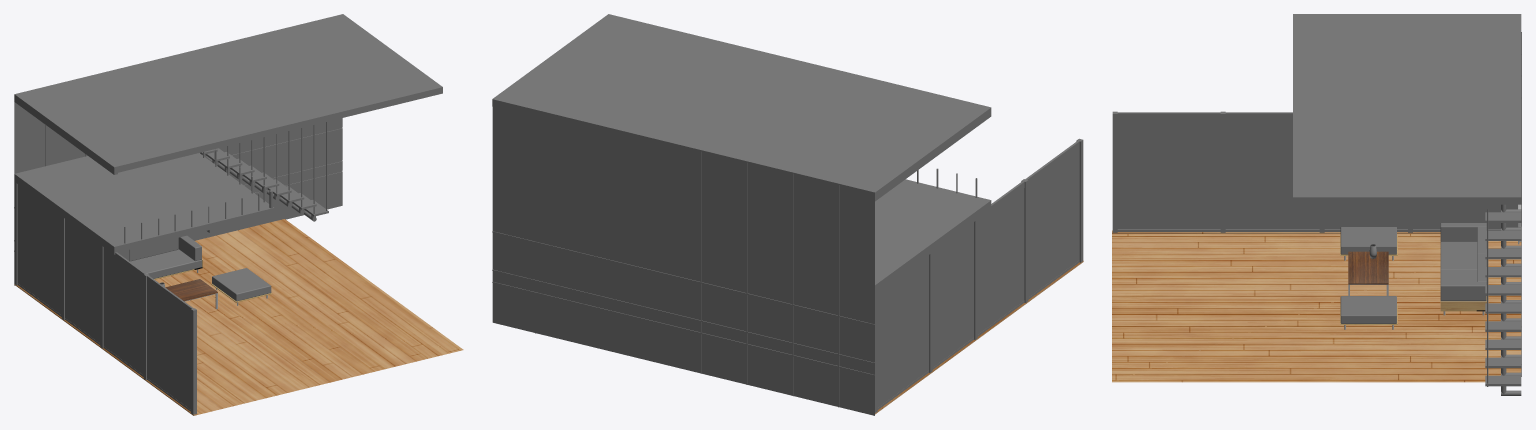
The model's file is house interior.obj.
The picture shows the model from 3 angles, left to right: view 1: azimuth 30°, elevation 25°; view 2: azimuth 150°, elevation 25°; view 3: azimuth 270°, elevation 25°; orthographic projection. The views are drawn at different scales.
Visible parts, largest first — view 1: Plane004, Plane001, Plane005, Plane002, Plane003, Box037, Box029, Box021, Box032, Box025, Box024; view 2: Plane003, Plane004, Plane005, Plane002, Box037, Plane001; view 3: Plane001, Plane004, Plane005, Box037, Box029, Box027, Box032, Box019, Box024, Box023, Box021, Box022 (+10 smaller).
Boxes of the visible parts, bbox=[...] form: Plane004: bbox=[14, 14, 442, 174]; Plane001: bbox=[14, 219, 463, 415]; Plane005: bbox=[17, 187, 190, 409]; Plane002: bbox=[14, 153, 274, 254]; Plane003: bbox=[14, 102, 342, 285]; Box037: bbox=[14, 182, 196, 414]; Box029: bbox=[212, 268, 271, 301]; Box021: bbox=[130, 249, 201, 278]; Box032: bbox=[165, 279, 217, 301]; Box025: bbox=[129, 237, 178, 261]; Box024: bbox=[178, 235, 201, 261]; Plane003: bbox=[492, 100, 874, 415]; Plane004: bbox=[492, 14, 991, 201]; Plane005: bbox=[877, 148, 1079, 407]; Plane002: bbox=[875, 179, 991, 293]; Box037: bbox=[875, 138, 1083, 412]; Plane001: bbox=[875, 261, 1083, 414]; Plane001: bbox=[1112, 230, 1521, 382]; Plane004: bbox=[1293, 14, 1521, 209]; Plane005: bbox=[1117, 119, 1516, 229]; Box037: bbox=[1112, 111, 1517, 232]; Box029: bbox=[1340, 296, 1396, 323]; Box027: bbox=[1340, 227, 1396, 254]; Box032: bbox=[1348, 251, 1388, 284]; Box019: bbox=[1440, 241, 1477, 269]; Box024: bbox=[1440, 282, 1486, 300]; Box023: bbox=[1440, 223, 1486, 241]; Box021: bbox=[1440, 270, 1486, 301]; Box022: bbox=[1440, 301, 1486, 310].
Size of the model in its own units: 439 by 245 by 415.
10 materials, 8 textured.
